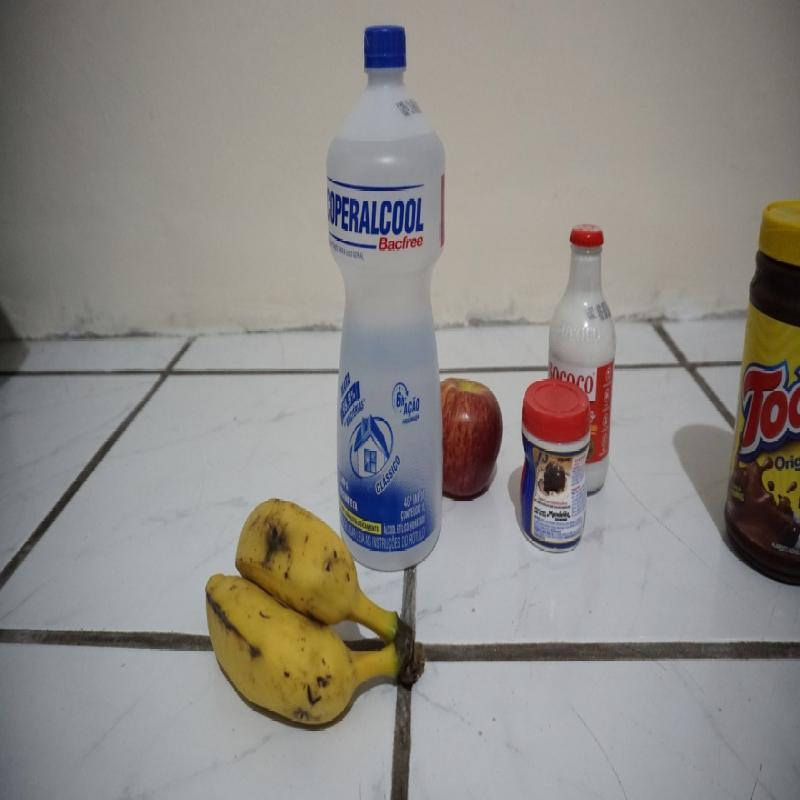Alcohol Bottle: (329, 21, 443, 496)
Apple: (443, 371, 504, 502)
Banana: (208, 500, 412, 740)
Chocolate Powder: (722, 199, 798, 579)
Coconut Milk: (547, 219, 616, 379)
Yeast: (520, 382, 587, 550)
